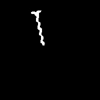half_double_crochet: (31, 11, 43, 44)
